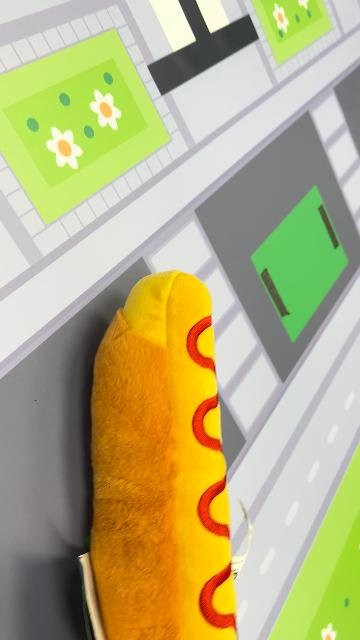hotdog: (88, 269, 240, 639)
